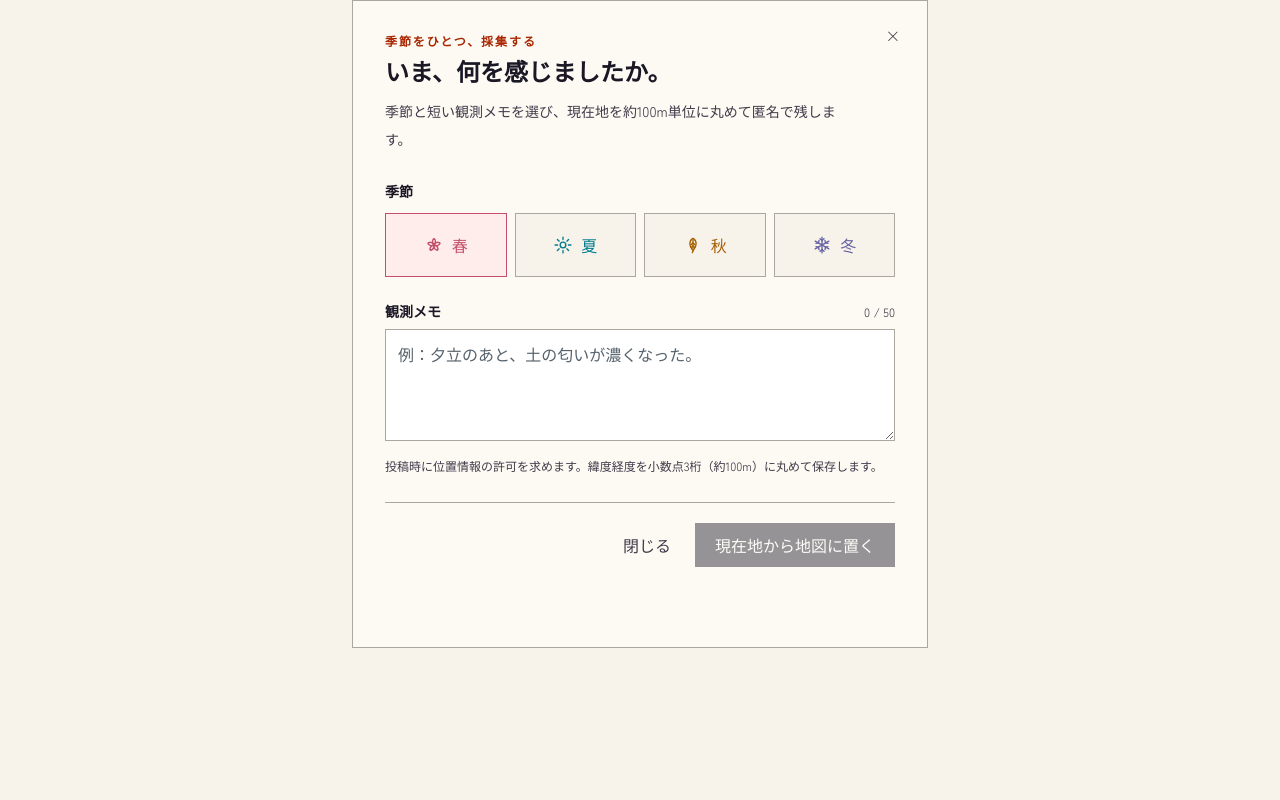
Test: PostPinForm › announces permission denial without sending a post
Type "風の温度が変わった。" into the text box labelled "観測メモ". click: {"x": 640, "y": 385}
box: [385,329,895,441]
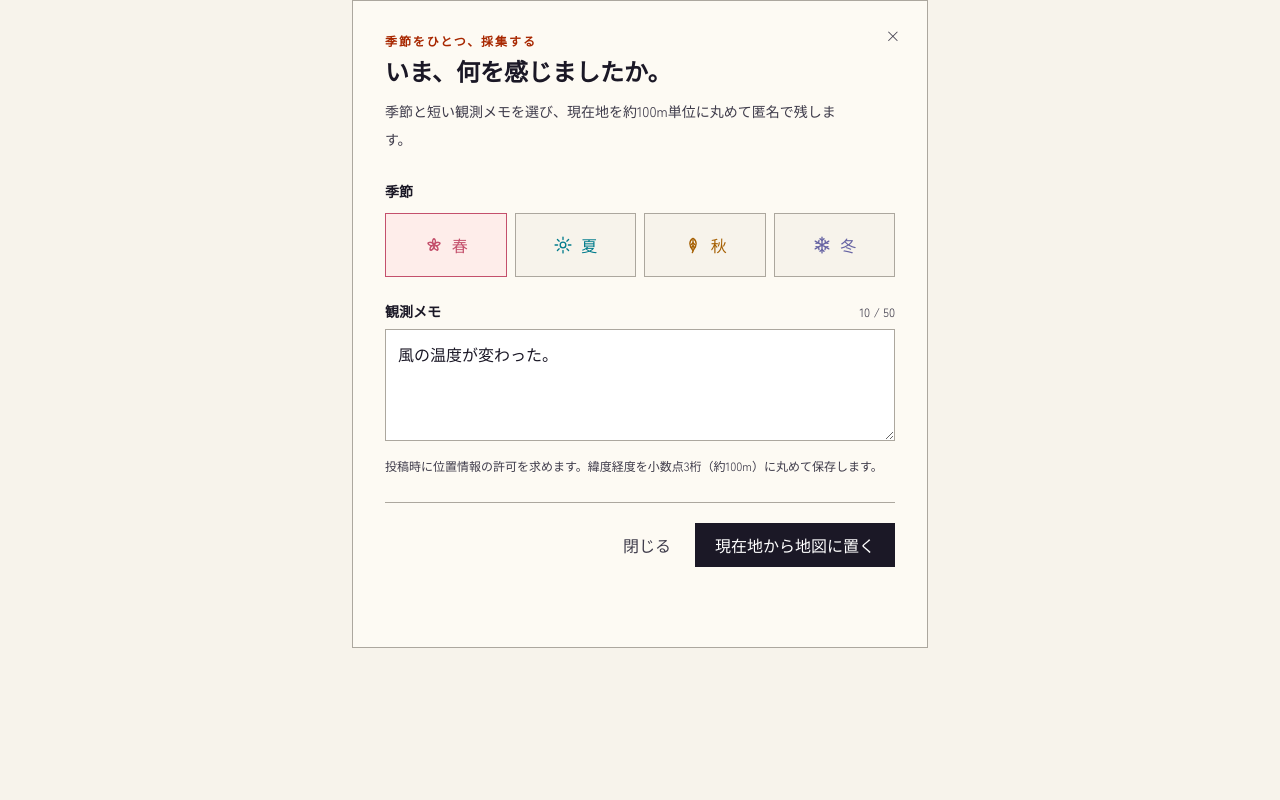
Click the button "現在地から地図に置く". click: {"x": 795, "y": 545}
box: [695,523,895,567]
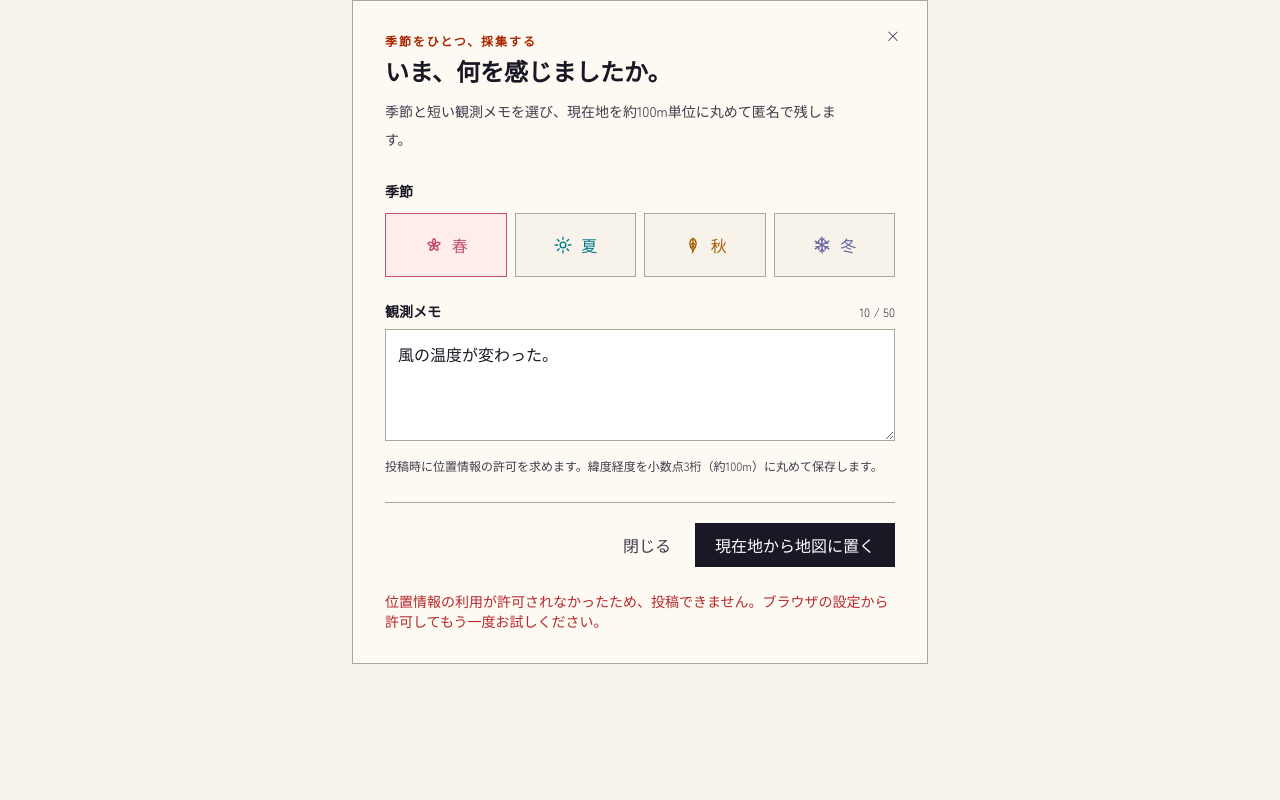
expect the message shows "位置情報の利用が許可されなかったため、投稿できません。": met, box [385,591,889,631]
